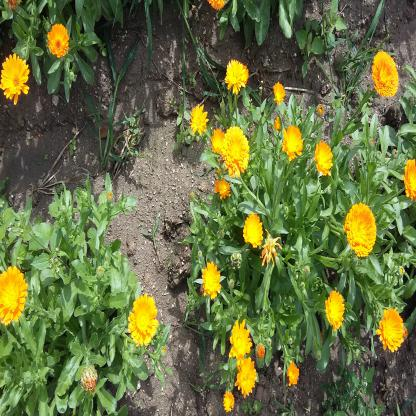marigold: (344, 202, 378, 255), (0, 264, 27, 323), (128, 294, 158, 344), (372, 49, 399, 101), (1, 54, 29, 100), (378, 306, 402, 350), (224, 127, 249, 168), (231, 320, 252, 357), (283, 127, 303, 163), (326, 286, 343, 327), (202, 262, 220, 300), (226, 58, 246, 91), (48, 25, 69, 56), (238, 358, 255, 396), (242, 214, 262, 246), (314, 142, 332, 174), (404, 158, 416, 200), (191, 107, 208, 136), (215, 178, 229, 200), (211, 126, 223, 150), (272, 80, 284, 103)
